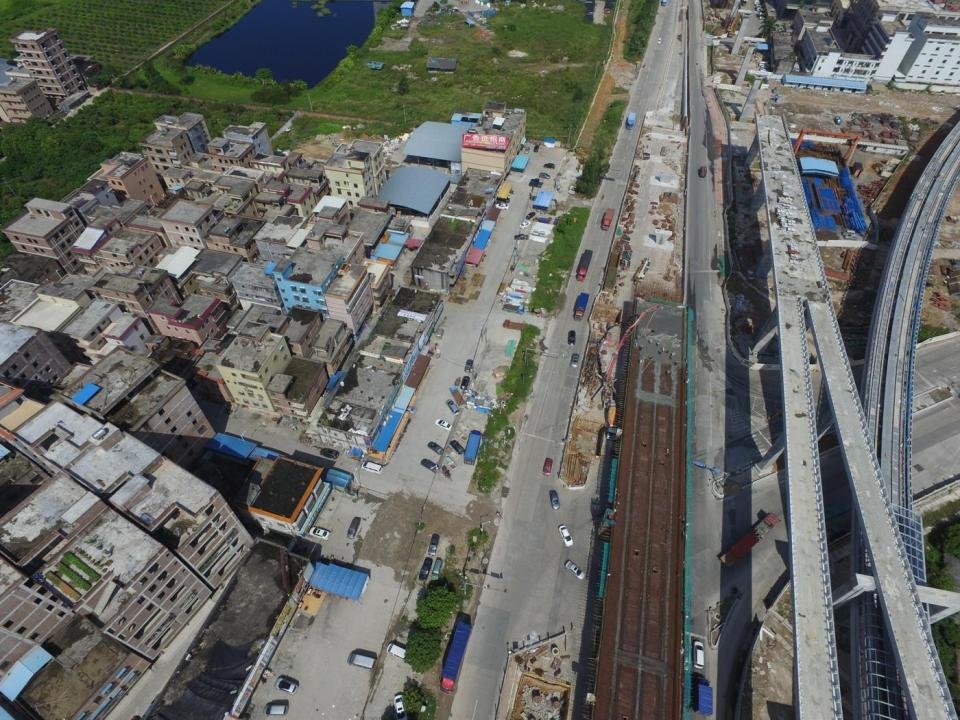car: (274, 676, 299, 694), (393, 694, 408, 720), (565, 561, 584, 579), (308, 526, 330, 540), (693, 641, 704, 669), (558, 526, 572, 547), (427, 534, 440, 556), (263, 705, 288, 716), (348, 517, 360, 539), (420, 559, 431, 581), (428, 441, 444, 456), (421, 459, 439, 472), (320, 448, 338, 460), (450, 439, 464, 454), (549, 490, 560, 509), (435, 420, 452, 431), (402, 404, 418, 415), (448, 401, 459, 416), (544, 457, 552, 476), (568, 330, 576, 345), (571, 352, 578, 368), (461, 376, 469, 389), (464, 359, 472, 371), (543, 162, 555, 170), (514, 234, 529, 240), (495, 204, 510, 209), (539, 172, 549, 179), (529, 183, 542, 188), (520, 222, 530, 228), (531, 178, 543, 183), (526, 212, 534, 219), (524, 146, 530, 154), (499, 198, 510, 202), (533, 145, 538, 152), (604, 8, 612, 12), (603, 11, 612, 14)
truck: (719, 512, 780, 568), (439, 621, 471, 695), (694, 677, 713, 716), (464, 431, 482, 464), (576, 249, 593, 281), (466, 396, 492, 413), (574, 292, 588, 321), (449, 386, 464, 405), (602, 207, 614, 230), (502, 302, 524, 314), (502, 319, 525, 330), (626, 111, 636, 130), (446, 446, 458, 459), (445, 456, 456, 470), (699, 166, 707, 177), (454, 376, 460, 388), (661, 0, 667, 5)
van: (348, 652, 377, 669), (386, 644, 409, 660), (361, 461, 382, 474), (433, 560, 443, 580), (437, 329, 443, 340), (657, 38, 661, 44)
